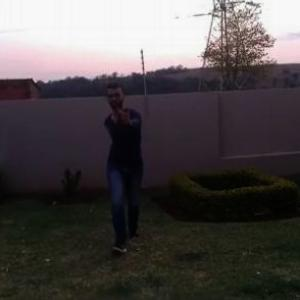takeoff-hand: (111, 97, 137, 129)
